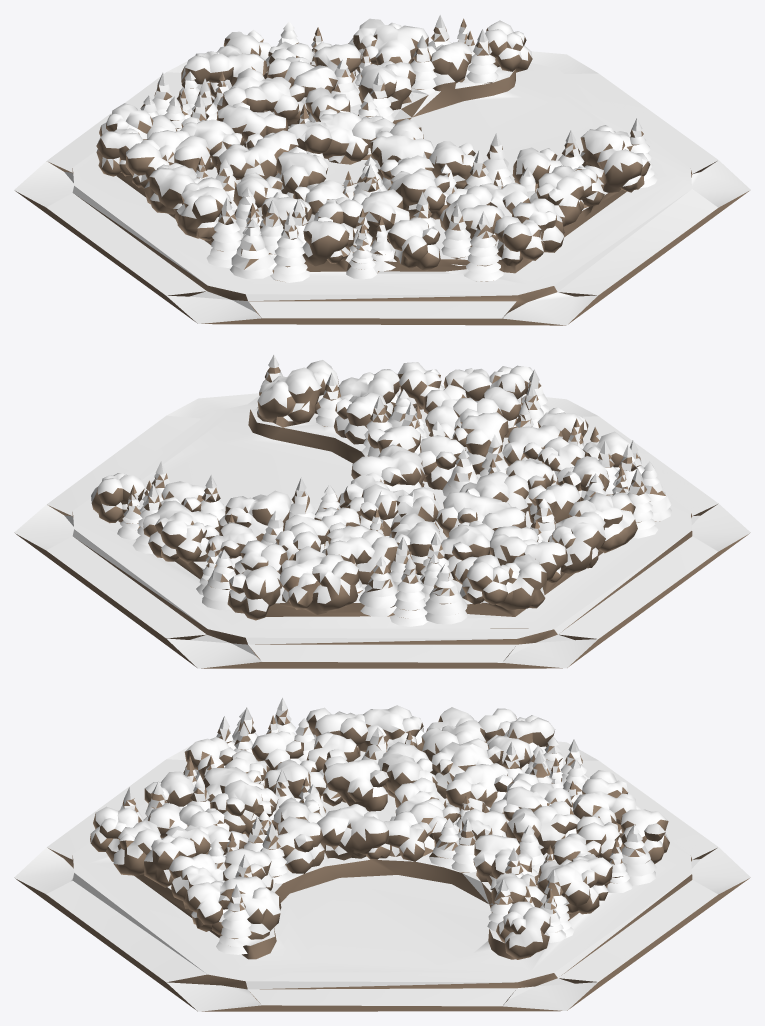
Rendered from hex_madera.glb.
3 views of the same model, one above another, from view 1: azimuth 30°, elevation 25°; view 2: azimuth 150°, elevation 25°; view 3: azimuth 270°, elevation 25° (orthographic).
Parts seen in each view (by area): view 1: Top, Side; view 2: Top, Side; view 3: Top, Side.
Part boxes in pixels (left/top/right/bottom): Top: left=14, top=15, right=750, bottom=325; Side: left=15, top=18, right=748, bottom=325; Top: left=14, top=355, right=750, bottom=668; Side: left=15, top=367, right=749, bottom=668; Top: left=14, top=697, right=750, bottom=1011; Side: left=15, top=709, right=749, bottom=1011.
Bounding box in the file's own units: 156 × 22.67 × 180.
